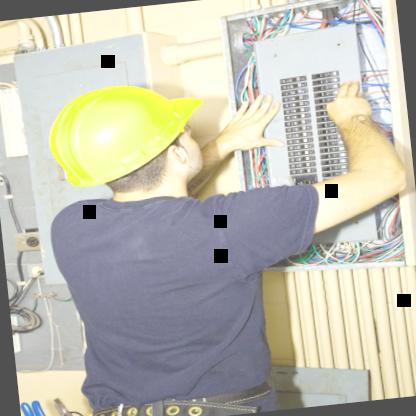helmet: (11, 54, 256, 230)
